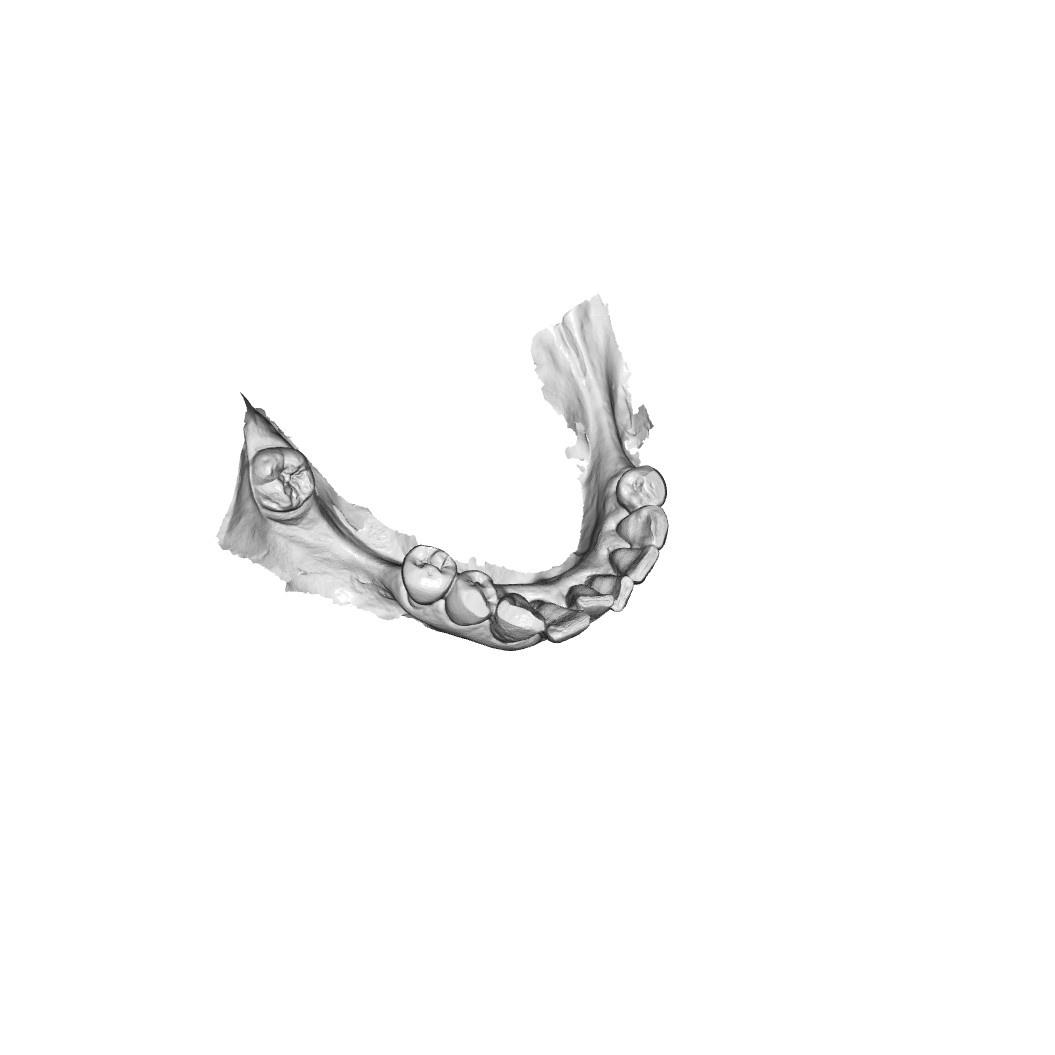canine: (494, 592, 538, 641), (622, 504, 667, 548)
incisor: (539, 597, 594, 645), (593, 575, 637, 612), (613, 547, 660, 581), (577, 587, 614, 616)
molar: (254, 446, 313, 515)
premolar: (402, 543, 454, 600), (446, 577, 496, 629), (620, 463, 669, 512)
